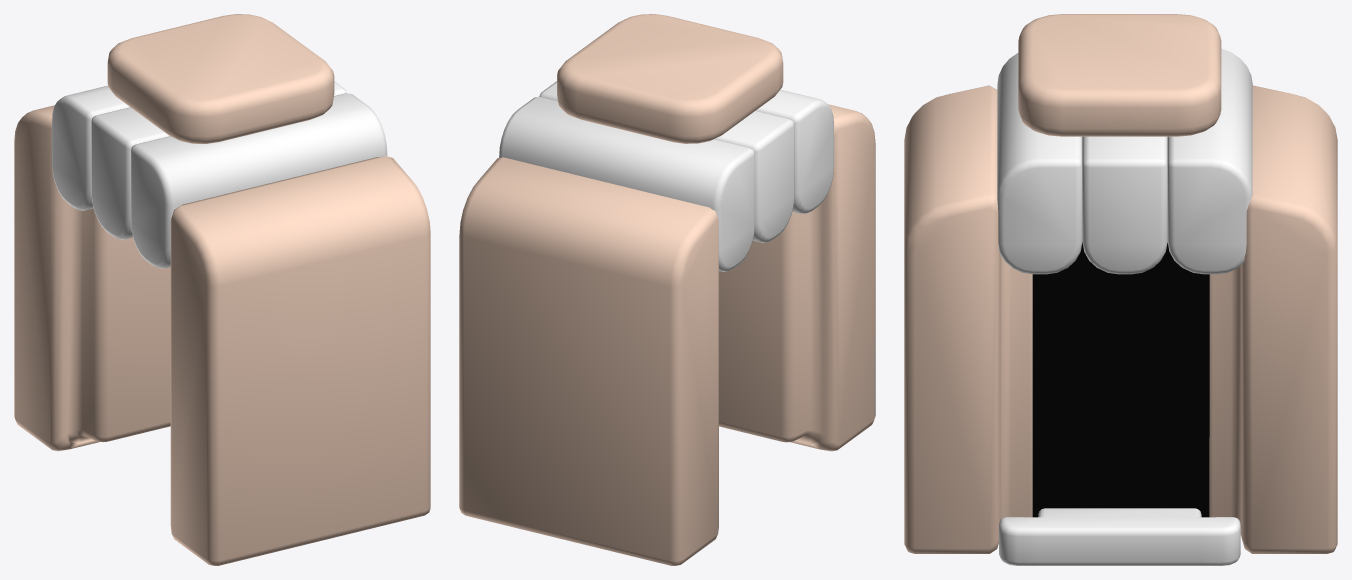
Rendered from M_GateRight.fbx.
3 views of the same model, side by side, from view 1: azimuth 30°, elevation 25°; view 2: azimuth 150°, elevation 25°; view 3: azimuth 270°, elevation 25° (orthographic). The views are drawn at different scales.
Visible parts, largest first — view 1: Gate_Right, Gate_Right-Color; view 2: Gate_Right, Gate_Right-Color; view 3: Gate_Right, Gate_Right-Color.
Boxes of the visible parts, x1,y1,x2,y2 form: Gate_Right: (14,14,430,565); Gate_Right-Color: (52,81,387,268); Gate_Right: (459,14,875,565); Gate_Right-Color: (499,81,833,271); Gate_Right: (904,14,1337,553); Gate_Right-Color: (997,48,1252,565).
Bounding box in the file's own units: 1.34 × 2.18 × 1.92.
